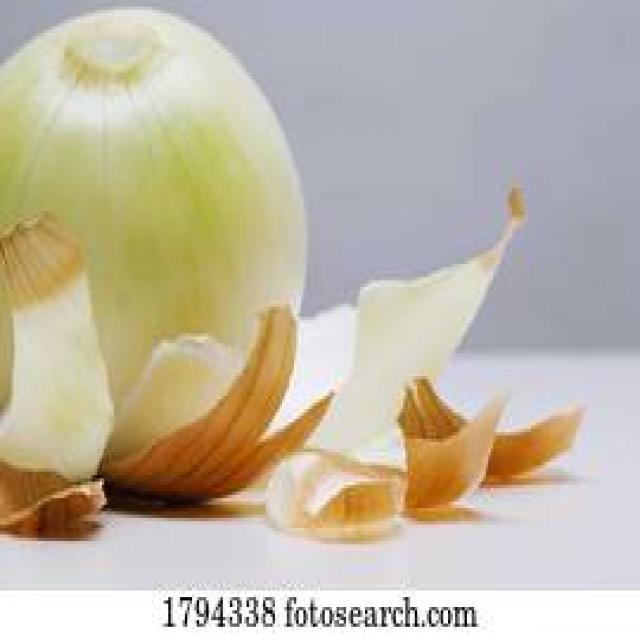onion: (3, 6, 311, 479)
